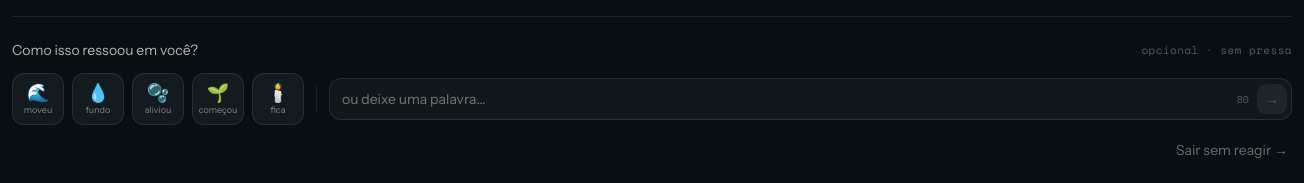
Test: SynthesisReactionDock › trocar de emoji para comentário limpa a seleção de emoji anterior na UI
This screenshot has width=1304, height=183.
Click the button with aria-label "Me moveu" at (38, 99), box 12,73 -> 64,125
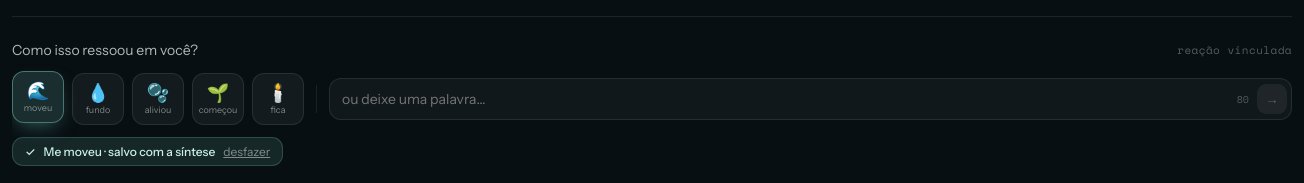
expect the message "✓ Me moveu · salvo com a síntese desfazer" is shown: met, box 12,137 -> 283,166
Type "Mudei de ideia." into the field named "Deixe um comentário curto sobre a síntese" at (785, 99), box 342,90 -> 1229,108
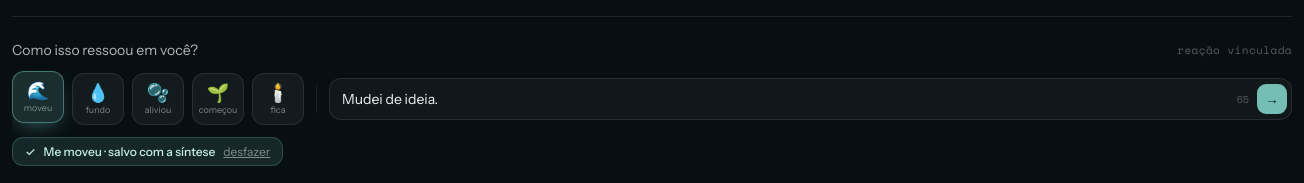
Click the button named "Salvar comentário" at (1272, 99), box 1257,84 -> 1287,114
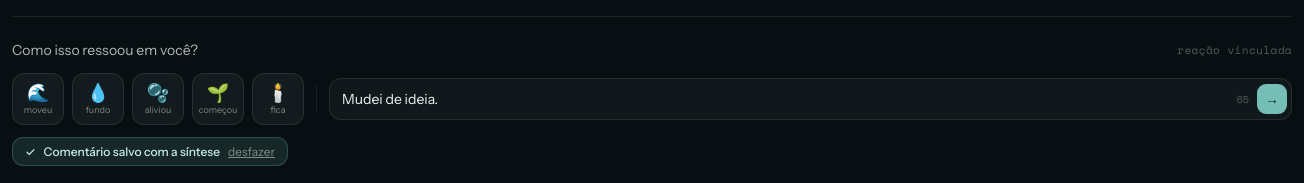
expect the message shows "Comentário salvo com a síntese": met, box 44,144 -> 220,159
